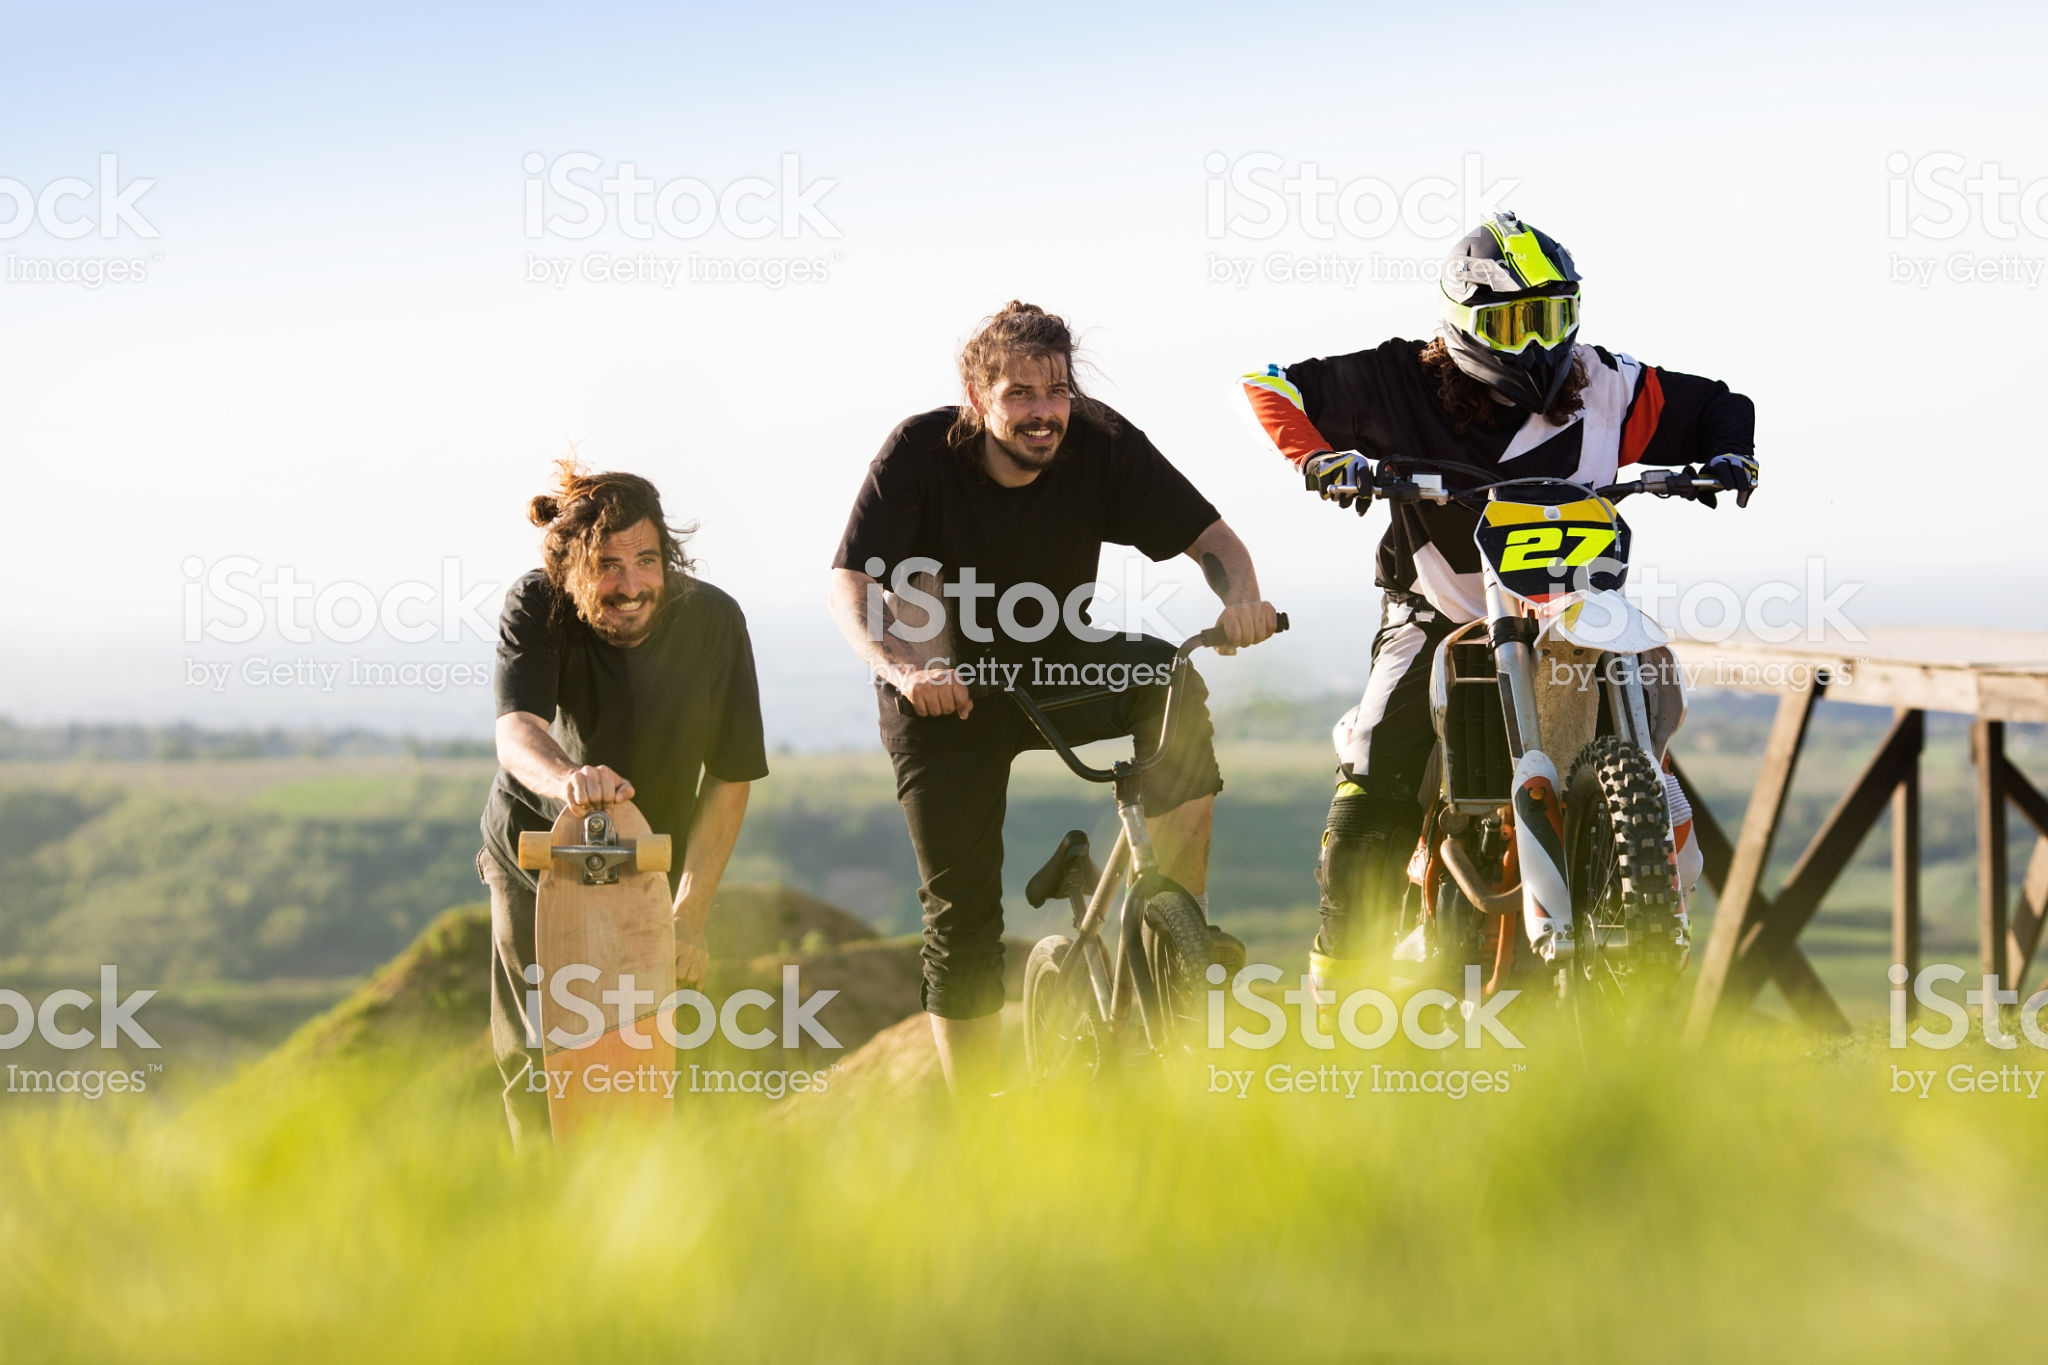helmet: (1424, 216, 1622, 395)
